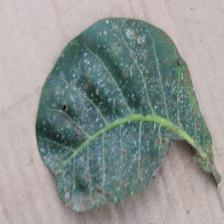red rust: (34, 16, 222, 213)
